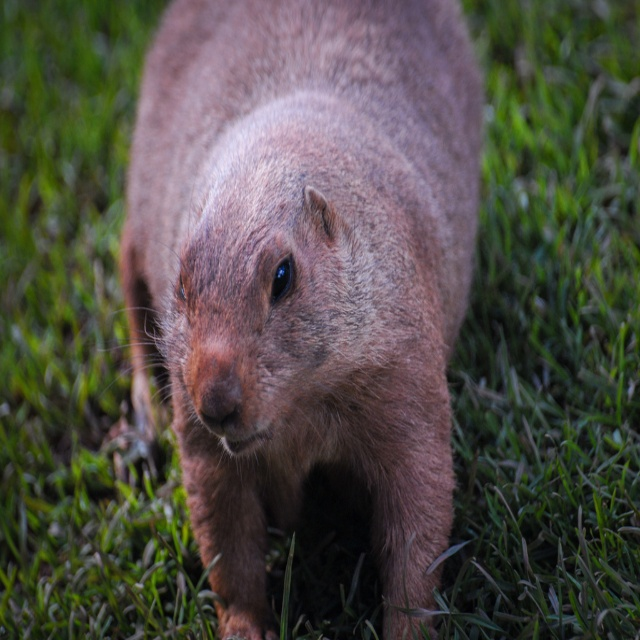Otter: (90, 0, 482, 640)
